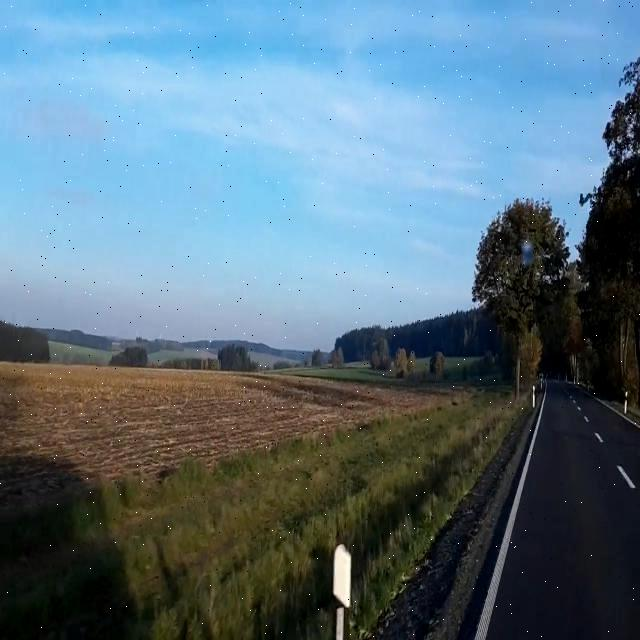lane: (477, 397, 545, 639), (593, 396, 639, 427), (617, 466, 635, 487)
road: (488, 383, 639, 638)
